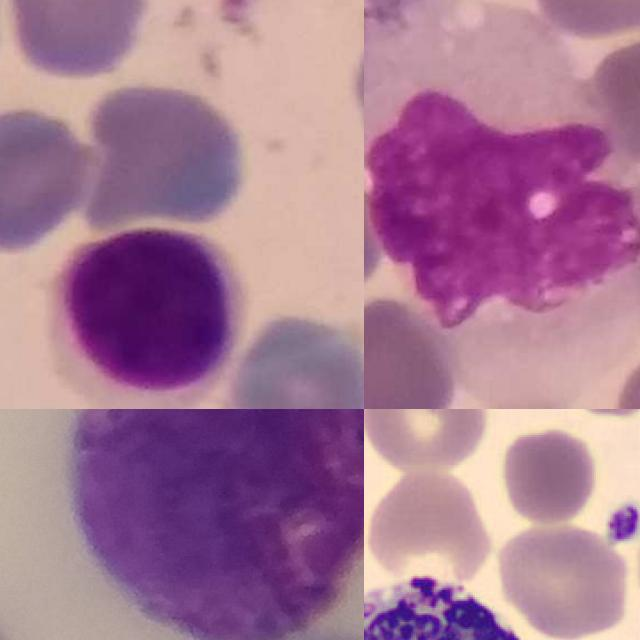Basophil: (67, 409, 364, 640), (364, 565, 542, 640)
Lymphocyte: (37, 223, 247, 409)
Monocyte: (364, 0, 640, 333)
Platelets: (602, 498, 640, 547)
RBC: (494, 518, 633, 640), (364, 465, 501, 583), (497, 424, 600, 527), (364, 409, 490, 475)
